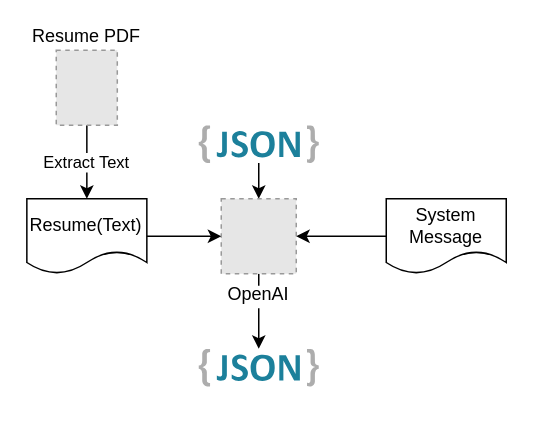
This 533x444 diagram has some shape labels left out. Grey dashed boxes stand in for pictures. Here are the shapes that lost their labels. From the top down, the box of each, then its label:
(197, 124, 319, 163): Function Schema
(197, 347, 319, 387): Output
